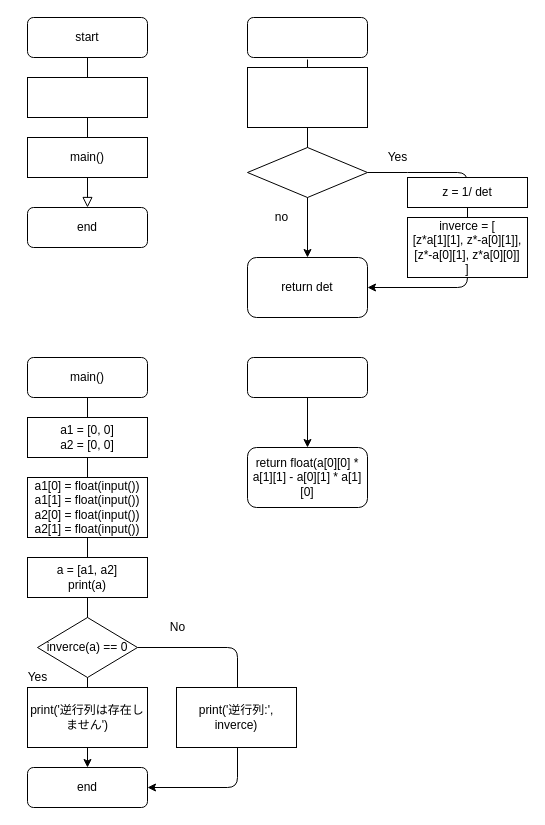
The diagram is 545 pixels wide and 825 high, and some of its shapes have lost their labels. The centre of each missing label's shape, as x and y in pixels:
det !=0: pixel 307 172
det(a): pixel 307 377
global inverce det = det(a): pixel 307 97
inverce = []: pixel 87 97
inverce(a): pixel 307 37
